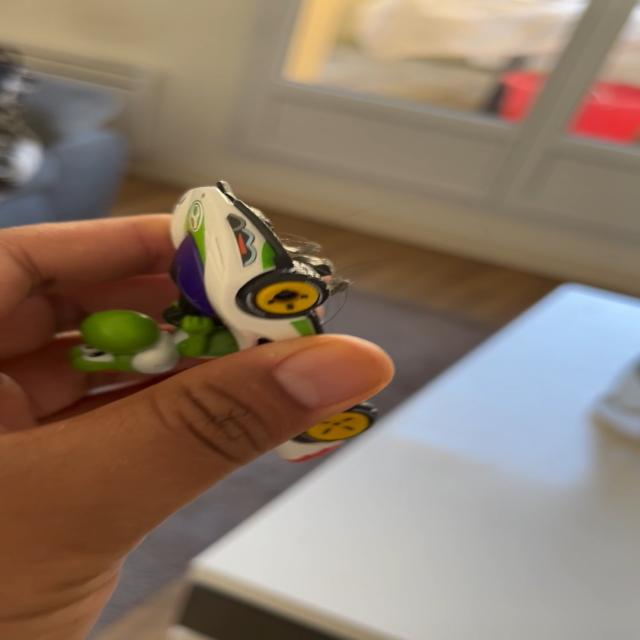yoshi: (46, 159, 405, 492)
